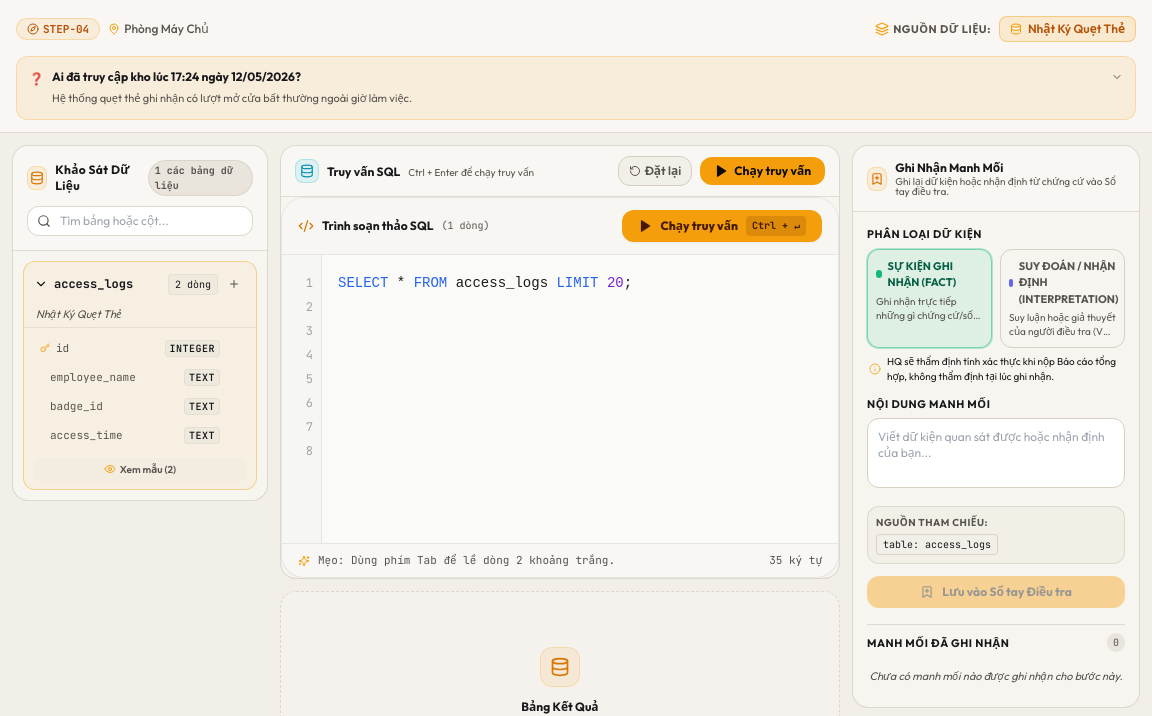
DataProcessingWorkspace Component Tests › 6. handles empty query result (0 rows returned)
Click the button "Chạy truy vấn".
click(763, 171)  # box [700, 157, 825, 185]
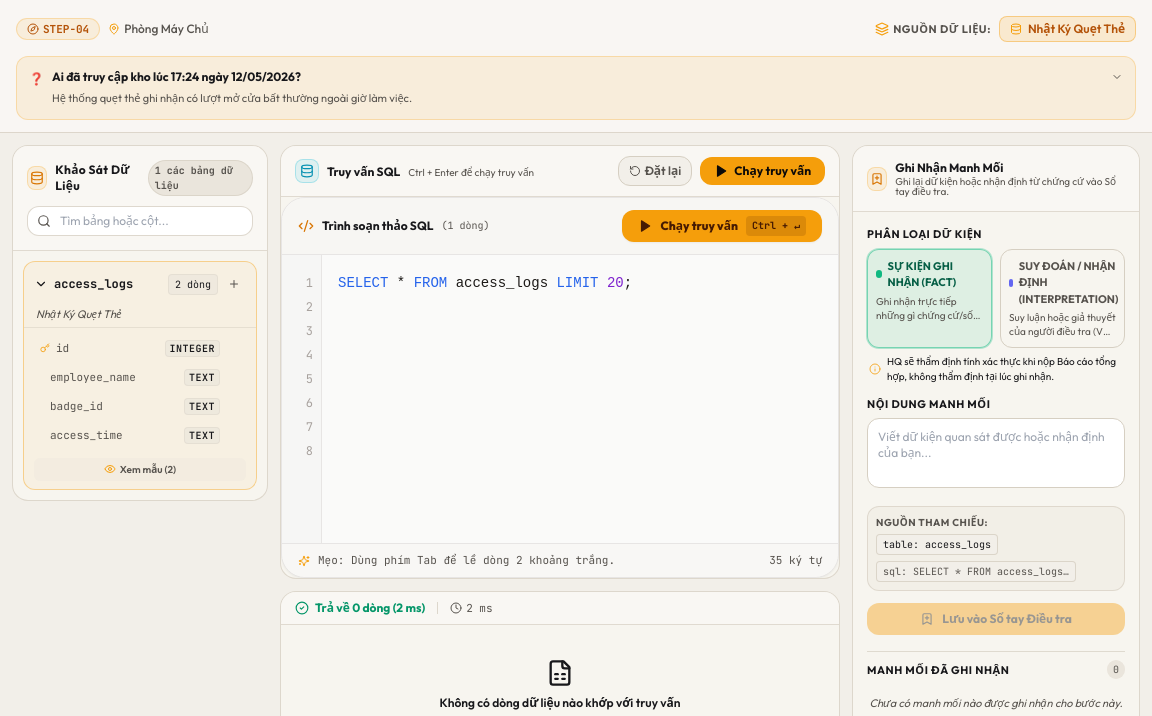
expect the text "Không có dòng dữ liệu nào khớp với truy vấn" is shown: met, box [439, 695, 681, 711]
